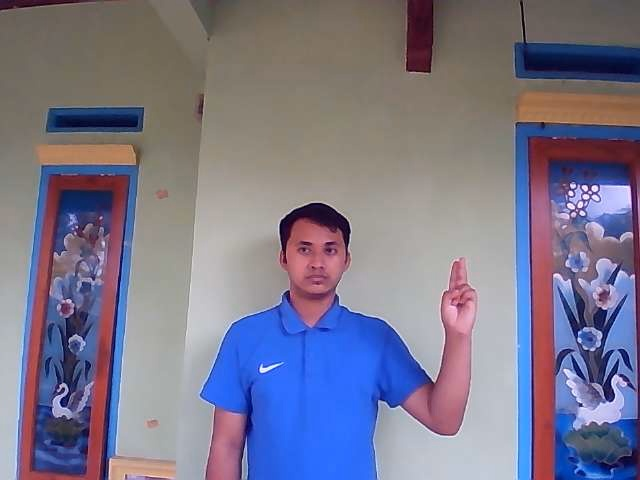U: (439, 257, 478, 332)
